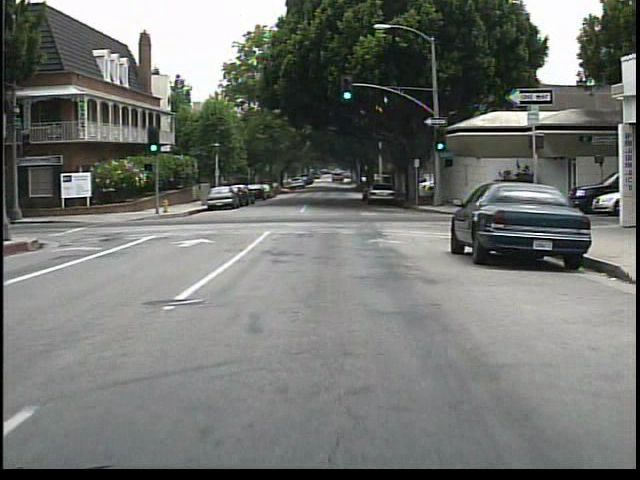person: (514, 170, 539, 214)
